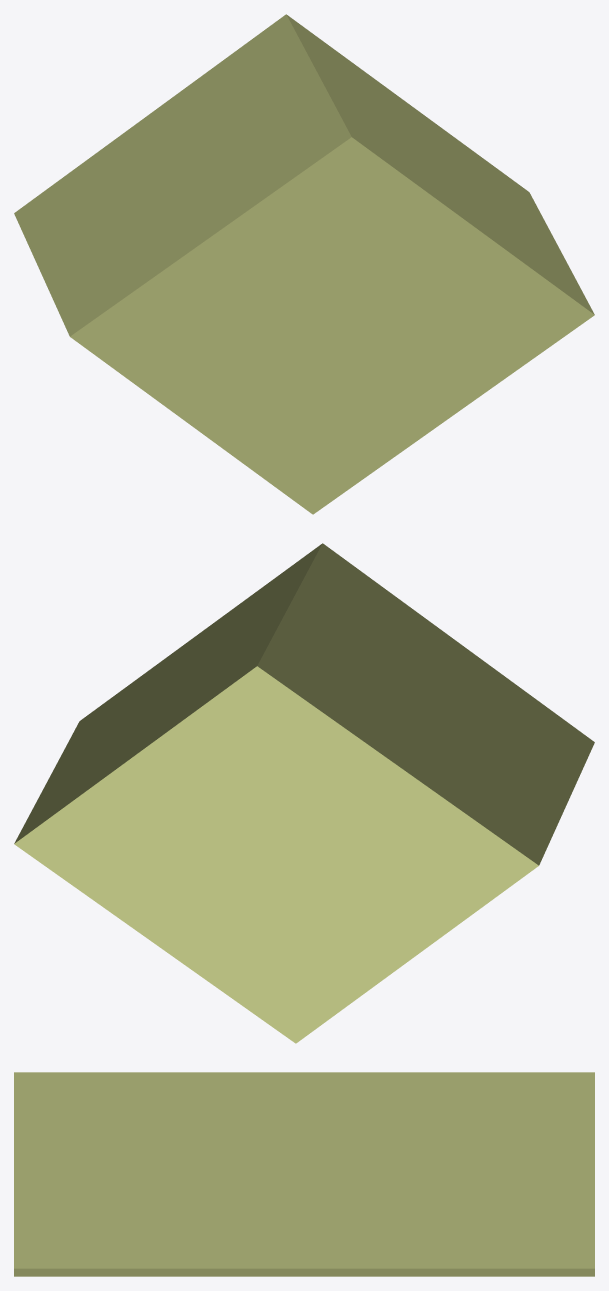
The picture shows the model from 3 angles, top to bottom: view 1: azimuth 30°, elevation 25°; view 2: azimuth 150°, elevation 25°; view 3: azimuth 270°, elevation 25°; orthographic projection. The views are drawn at different scales.
Parts seen in each view (by area): view 1: 0_2_2_0_0_0_1_3_3_3_1; view 2: 0_2_2_0_0_0_1_3_3_3_1; view 3: 0_2_2_0_0_0_1_3_3_3_1.
Boxes of the visible parts, left/top/right/bottom form: 0_2_2_0_0_0_1_3_3_3_1: left=14, top=14, right=594, bottom=514; 0_2_2_0_0_0_1_3_3_3_1: left=14, top=543, right=594, bottom=1043; 0_2_2_0_0_0_1_3_3_3_1: left=14, top=1072, right=594, bottom=1276.
Bounding box in the file's own units: 7.22 × 5.51 × 9.
